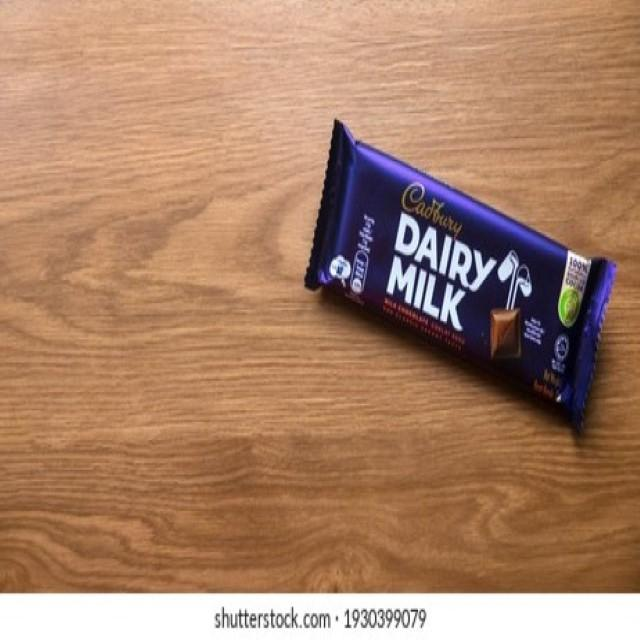cadbury_chocolate: (320, 115, 615, 438)
